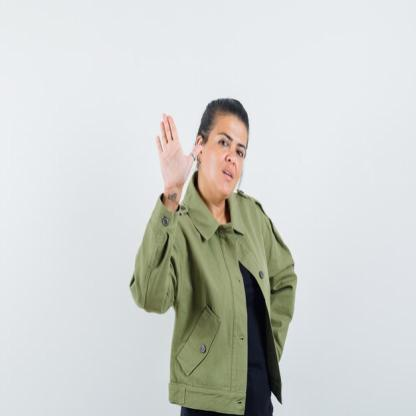stop: (152, 109, 205, 199)
